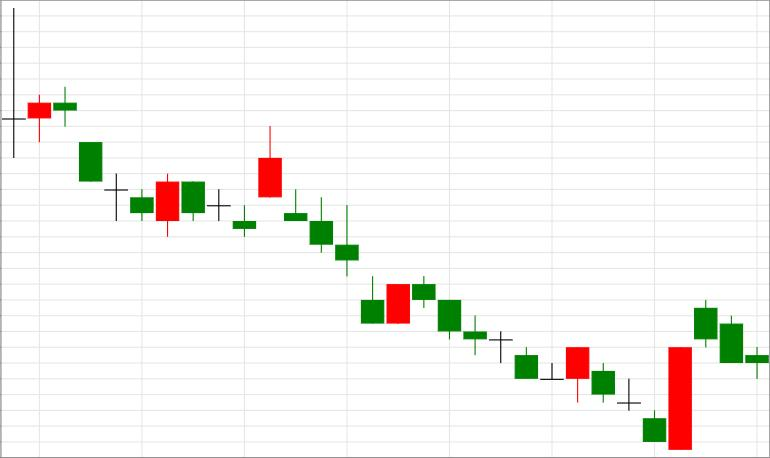bullish_engulfing_rise: (412, 274, 693, 450), (53, 86, 179, 237)
